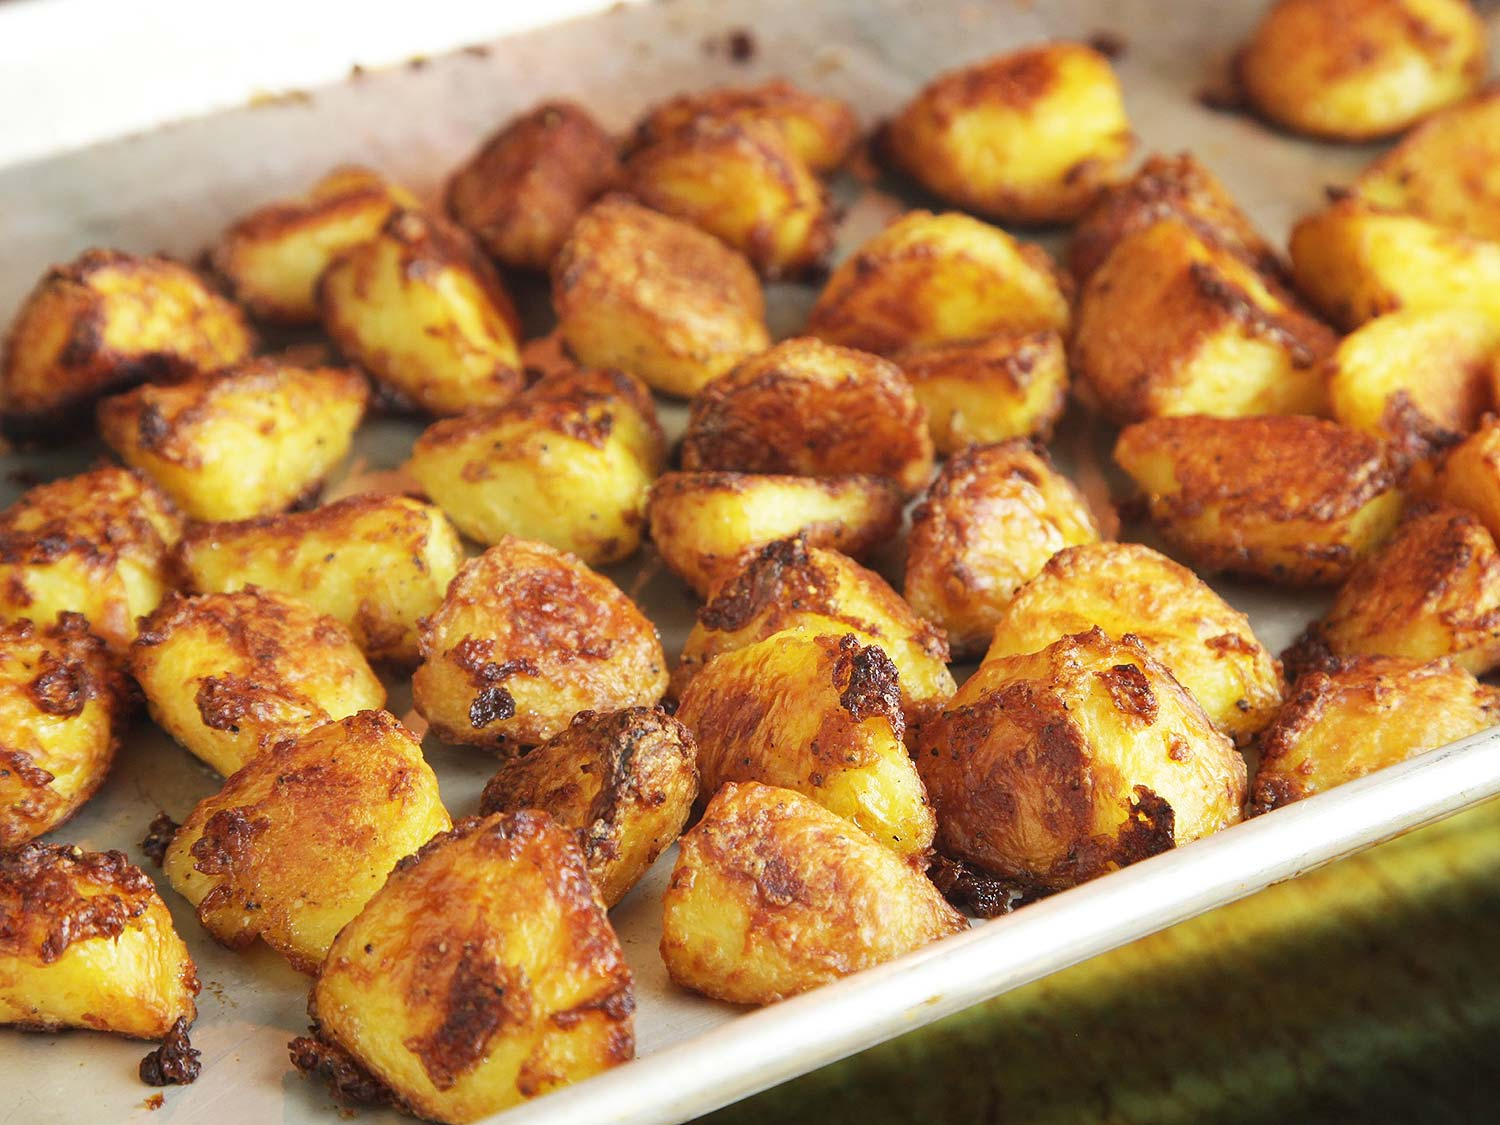boiled potatoes: (2, 201, 960, 735)
